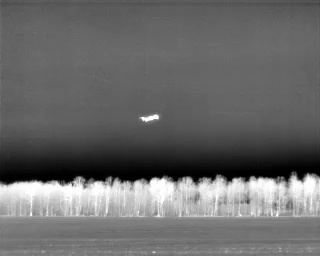DRONE: (136, 109, 164, 127)
